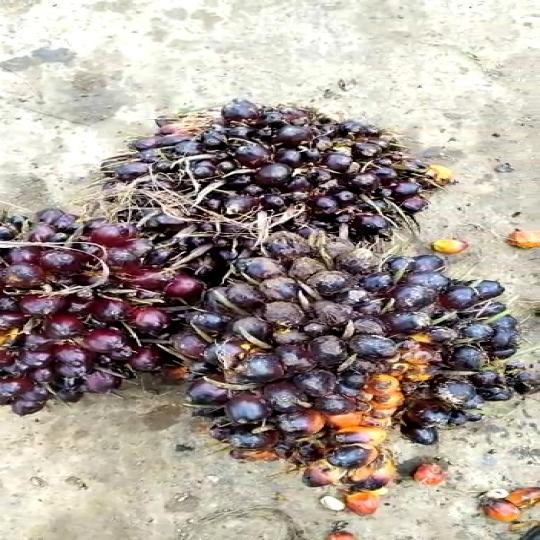kurang masak: (184, 237, 540, 515), (114, 102, 464, 254), (0, 198, 205, 432)
